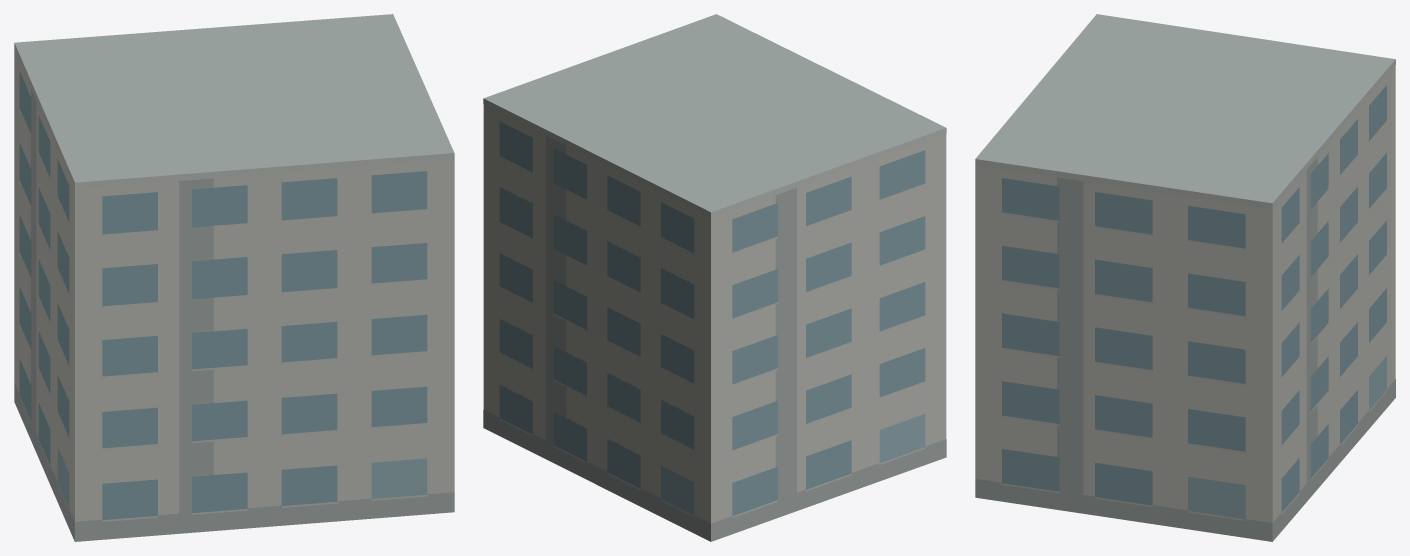
File: survey-upis-32890054.glb
3 renders of one model, left to right at view 1: azimuth 30°, elevation 25°; view 2: azimuth 150°, elevation 25°; view 3: azimuth 270°, elevation 25°, orthographic. The views are drawn at different scales.
Visible parts, largest first — view 1: survey-upis-32890054.tmp; view 2: survey-upis-32890054.tmp; view 3: survey-upis-32890054.tmp.
Boxes of the visible parts, x1=… form: survey-upis-32890054.tmp: x1=14, y1=14, x2=454, y2=541; survey-upis-32890054.tmp: x1=483, y1=14, x2=946, y2=541; survey-upis-32890054.tmp: x1=975, y1=14, x2=1395, y2=541.
Bounding box in the file's own units: 15.95 × 13.3 × 14.98.
